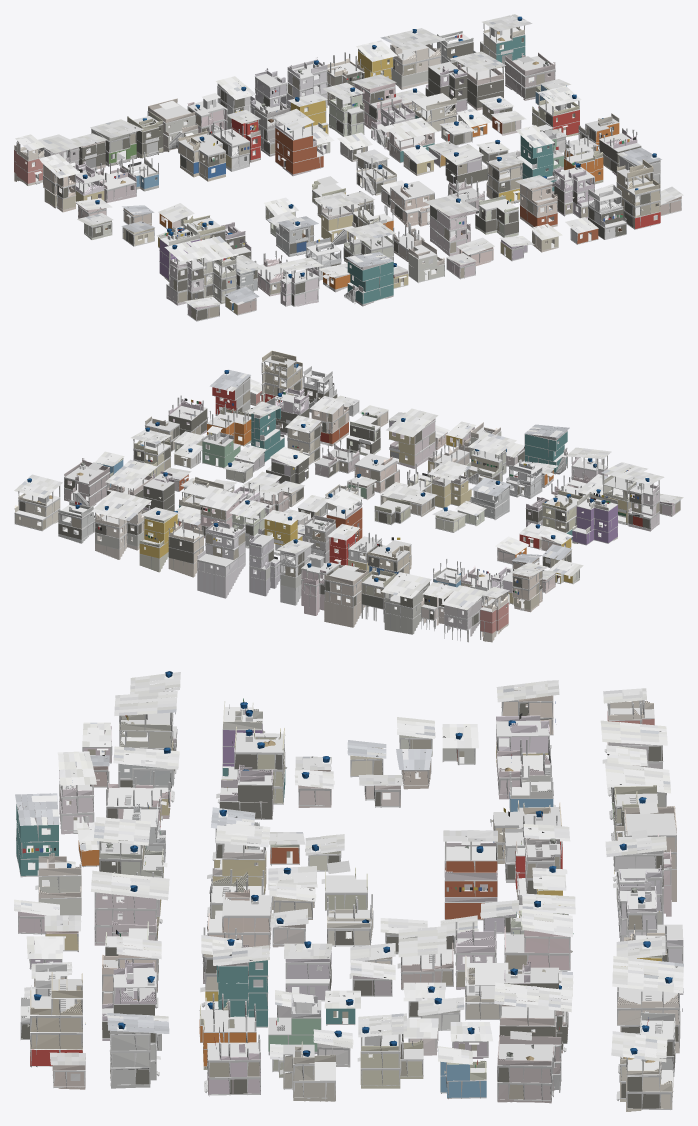
3 renders of one model, top to bottom at view 1: azimuth 30°, elevation 25°; view 2: azimuth 150°, elevation 25°; view 3: azimuth 270°, elevation 25°, orthographic. The views are drawn at different scales.
Parts seen in each view (by area): view 1: T_25_23; view 2: T_25_23; view 3: T_25_23.
Part boxes in pixels (x1=…): T_25_23: x1=14, y1=14, x2=683, y2=321; T_25_23: x1=14, y1=350, x2=683, y2=642; T_25_23: x1=14, y1=671, x2=683, y2=1111.
Size of the model in its own units: 135 by 17.71 by 102.
